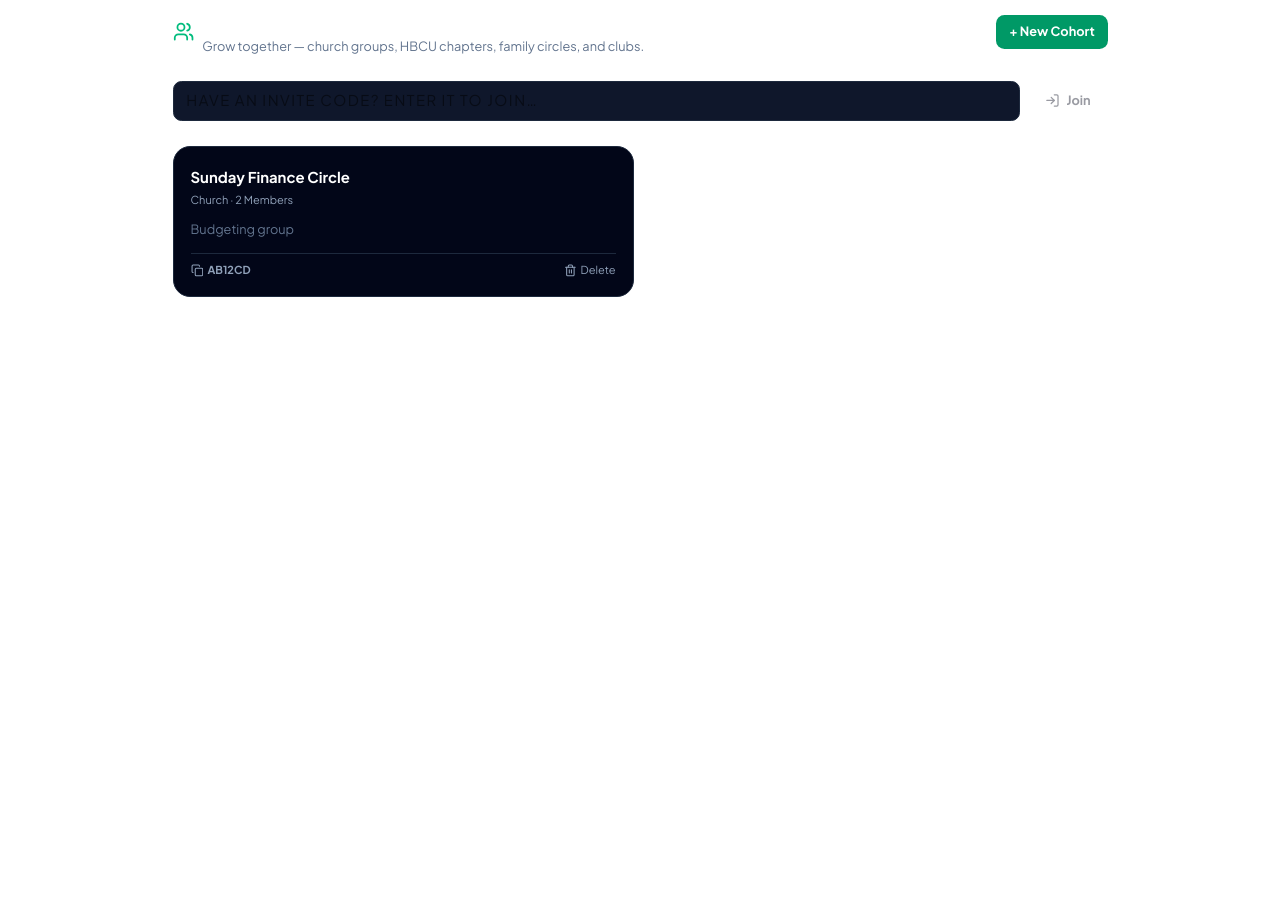
Test case: CohortView › opens a cohort and shows the leaderboard
Step 1. Click the text "Sunday Finance Circle" → (270, 178), box x1=190 y1=168 x2=350 y2=186
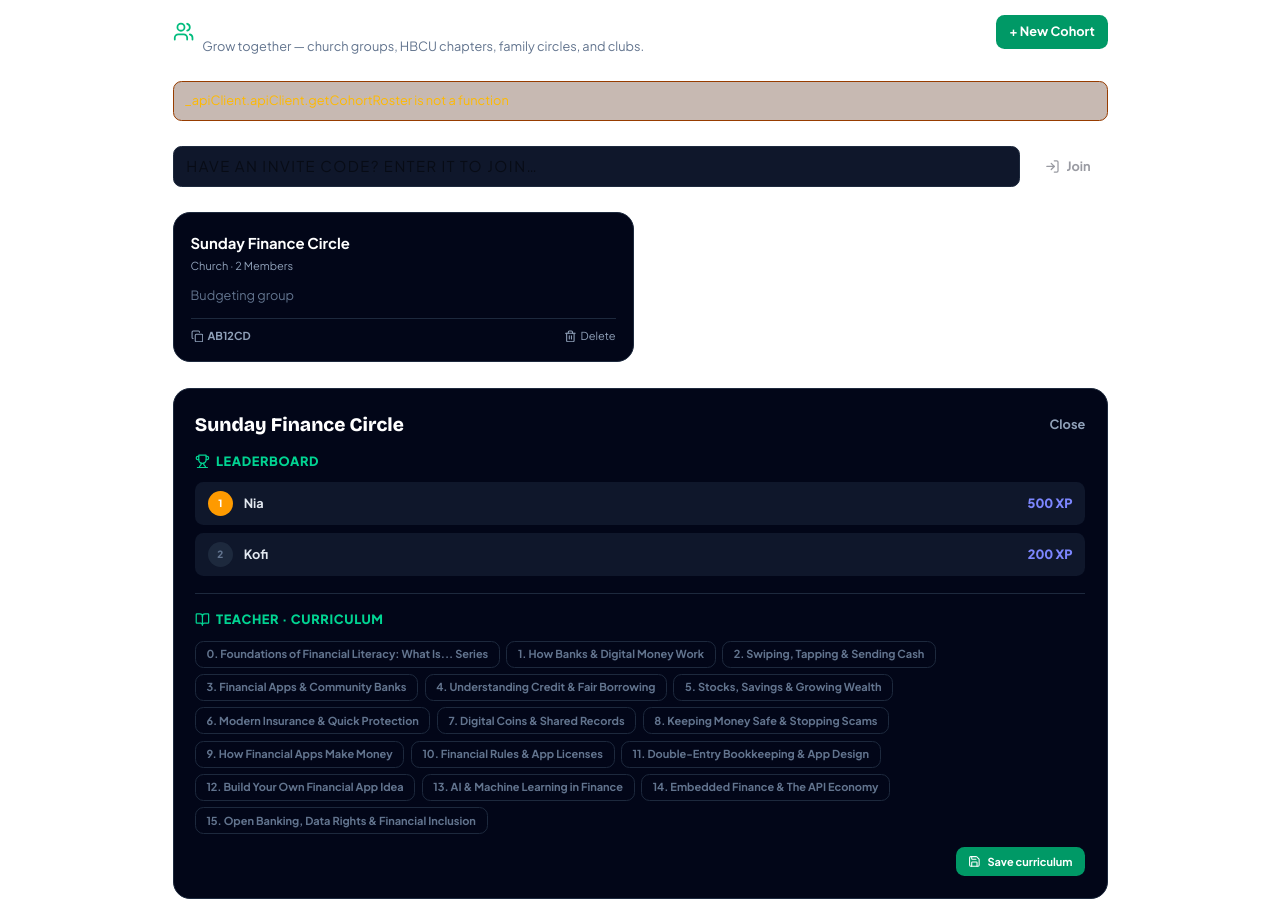
Expected: the text "Leaderboard" is shown, x1=195 y1=453 x2=319 y2=469
Expected: the text "500 XP" is shown, x1=1028 y1=495 x2=1072 y2=512
